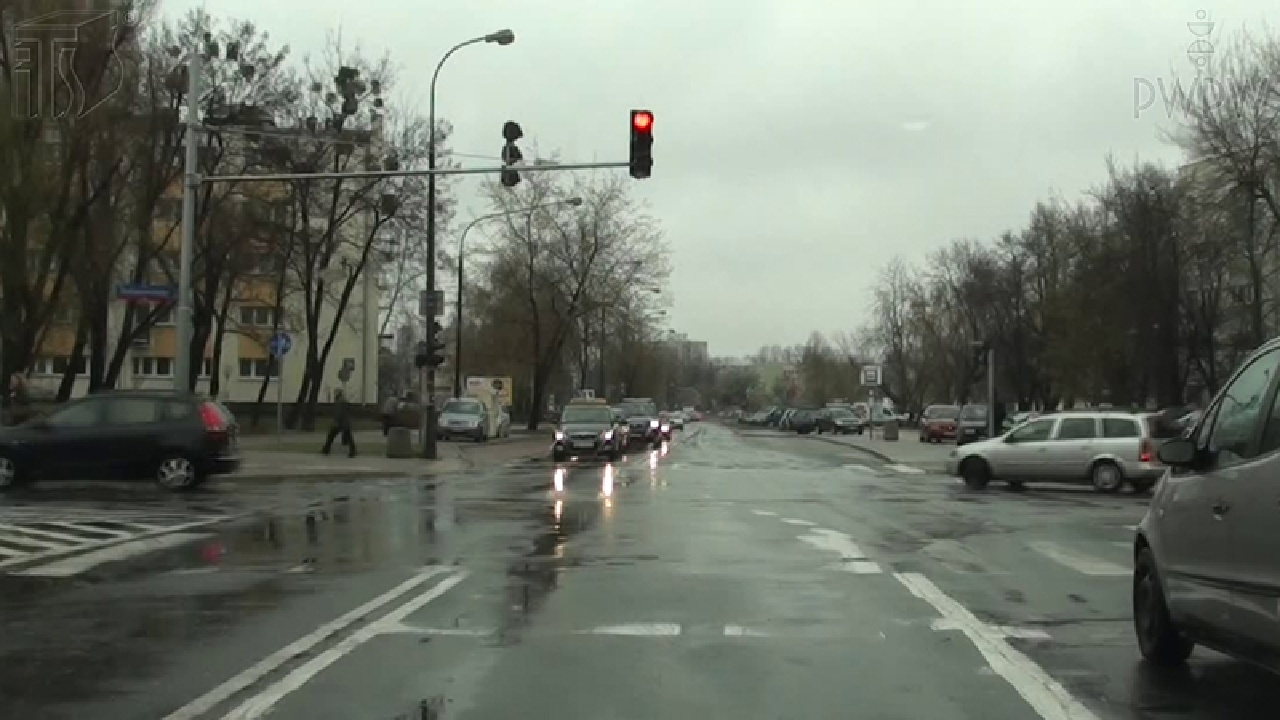Red: (631, 110, 652, 176)
